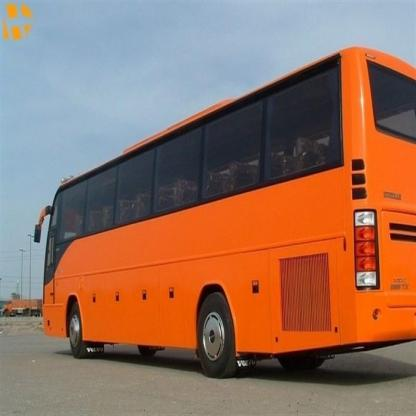Bus: (47, 37, 416, 380)
